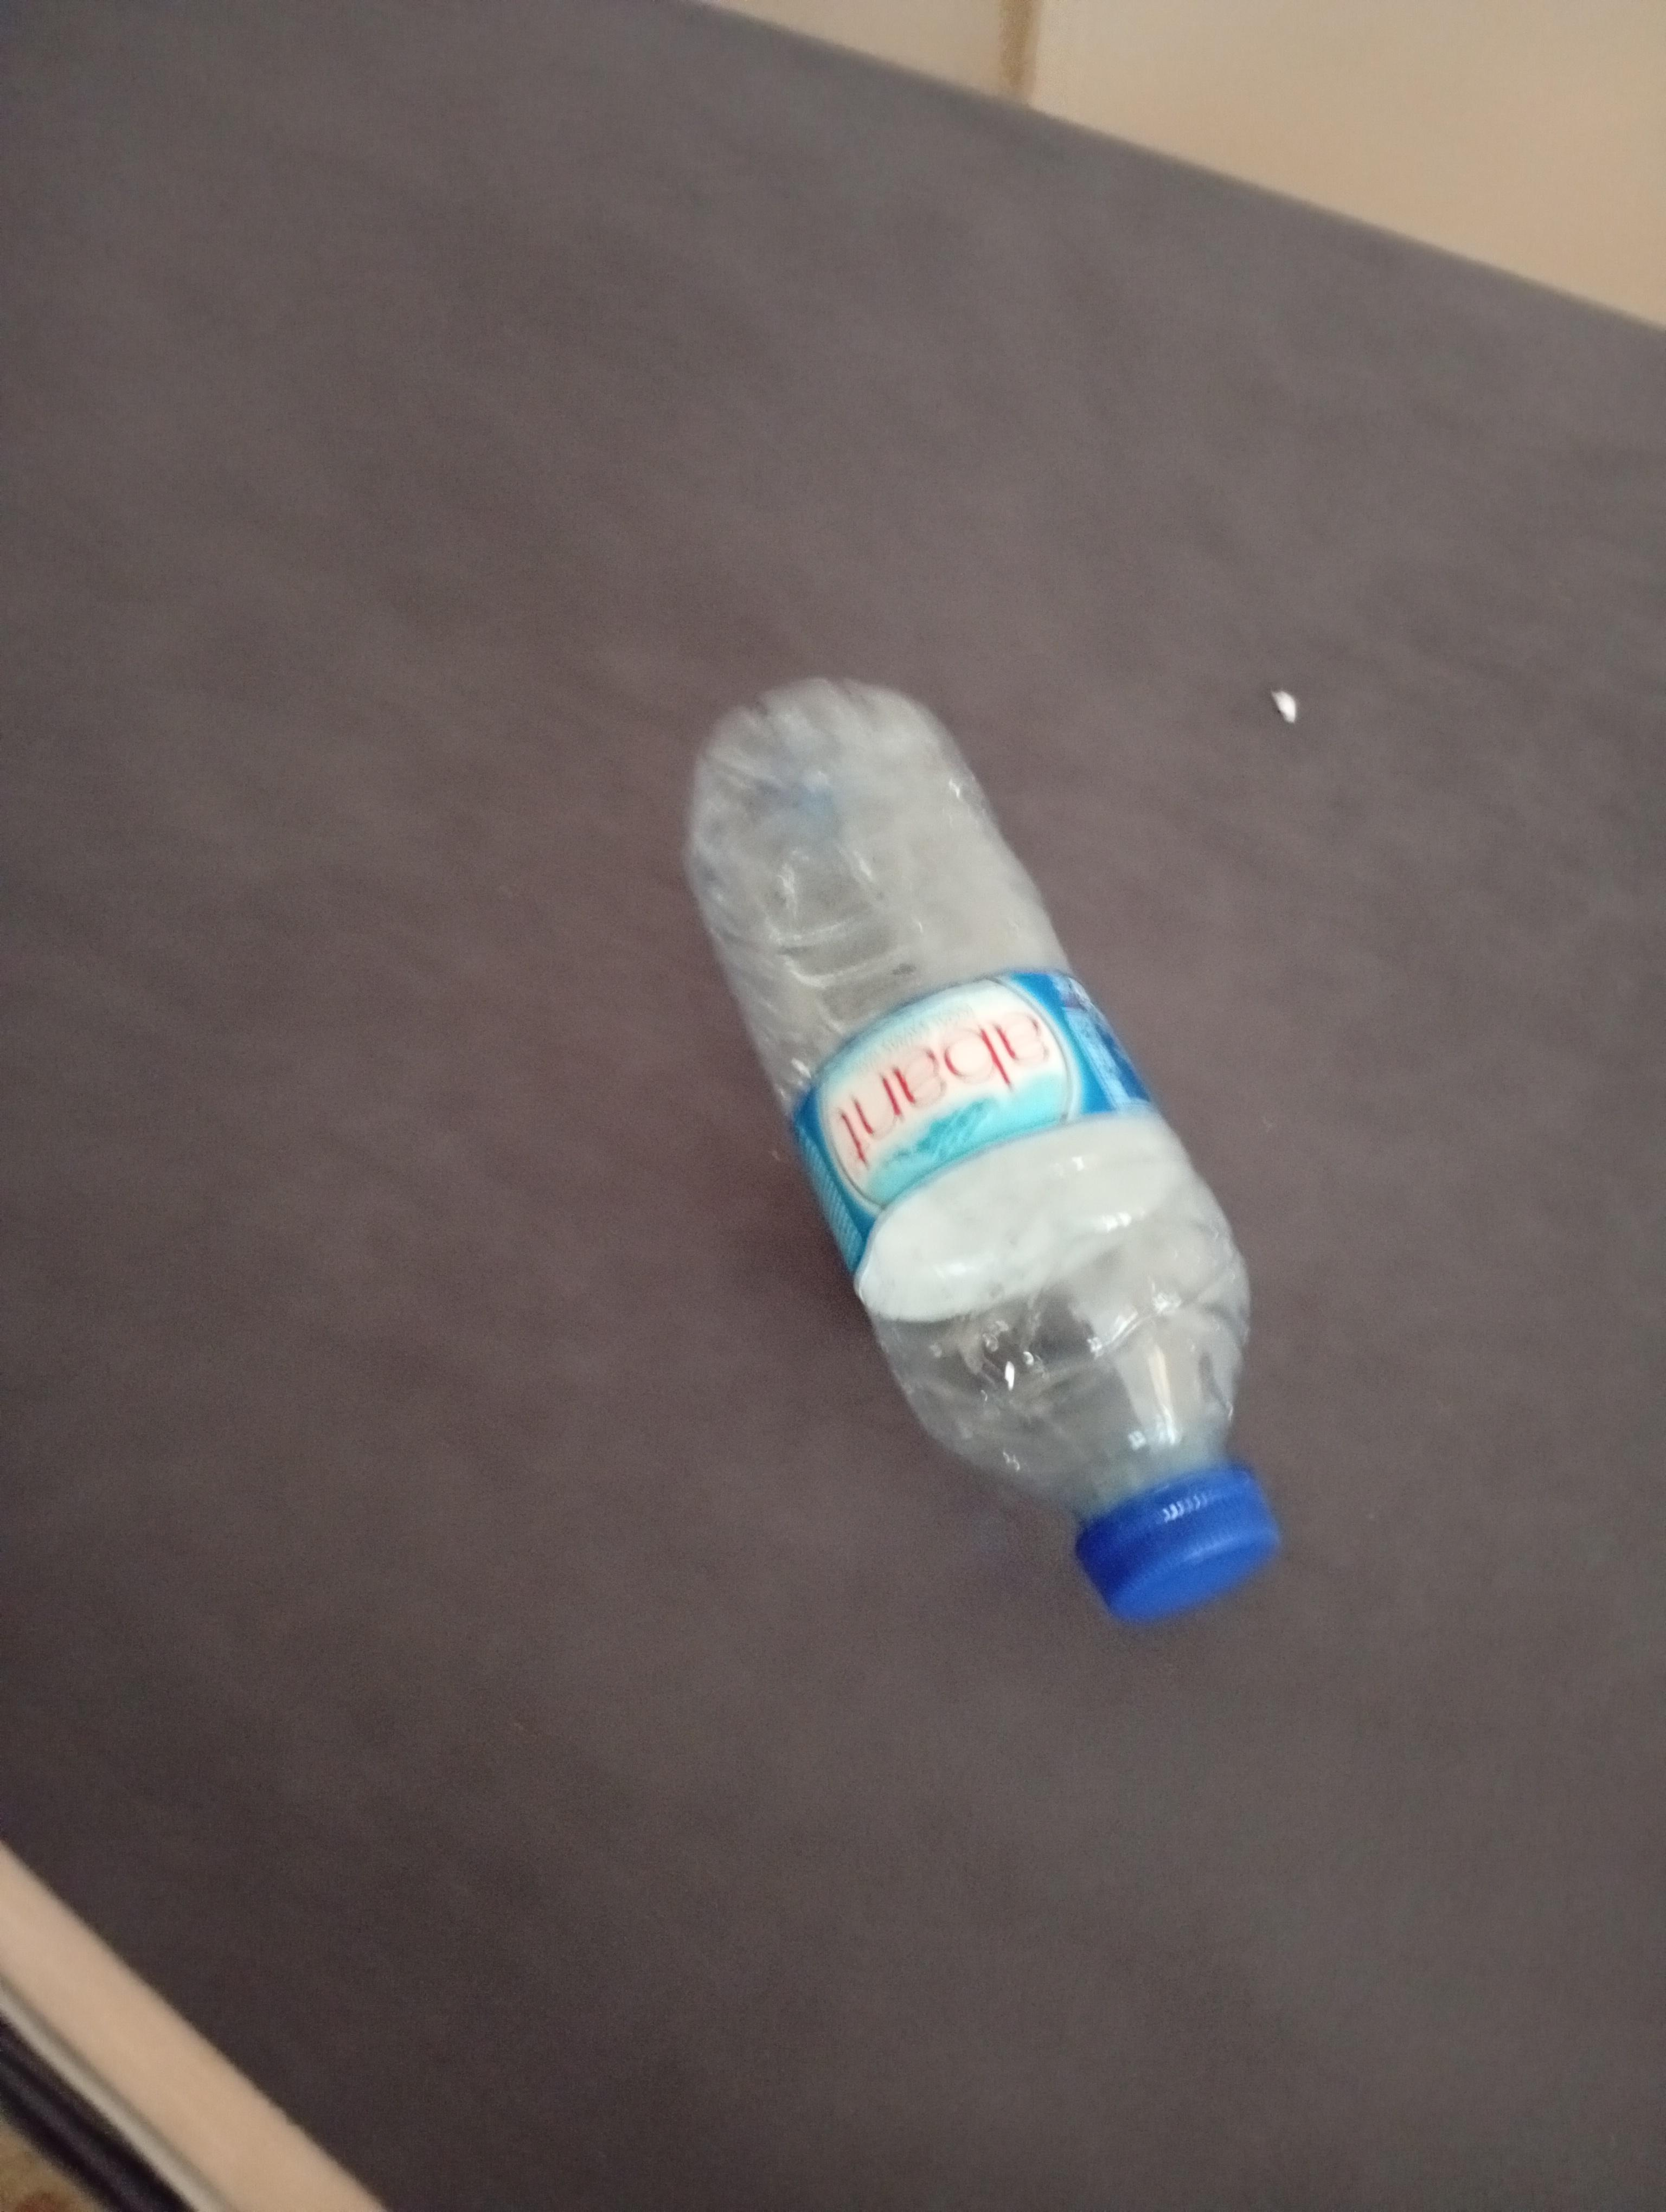etiketli: (677, 663, 1353, 1663)
